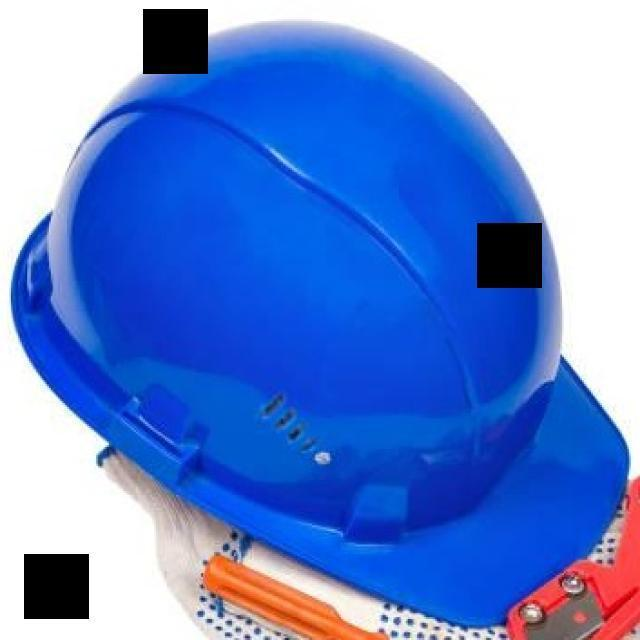blue helmet: (2, 1, 636, 631)
